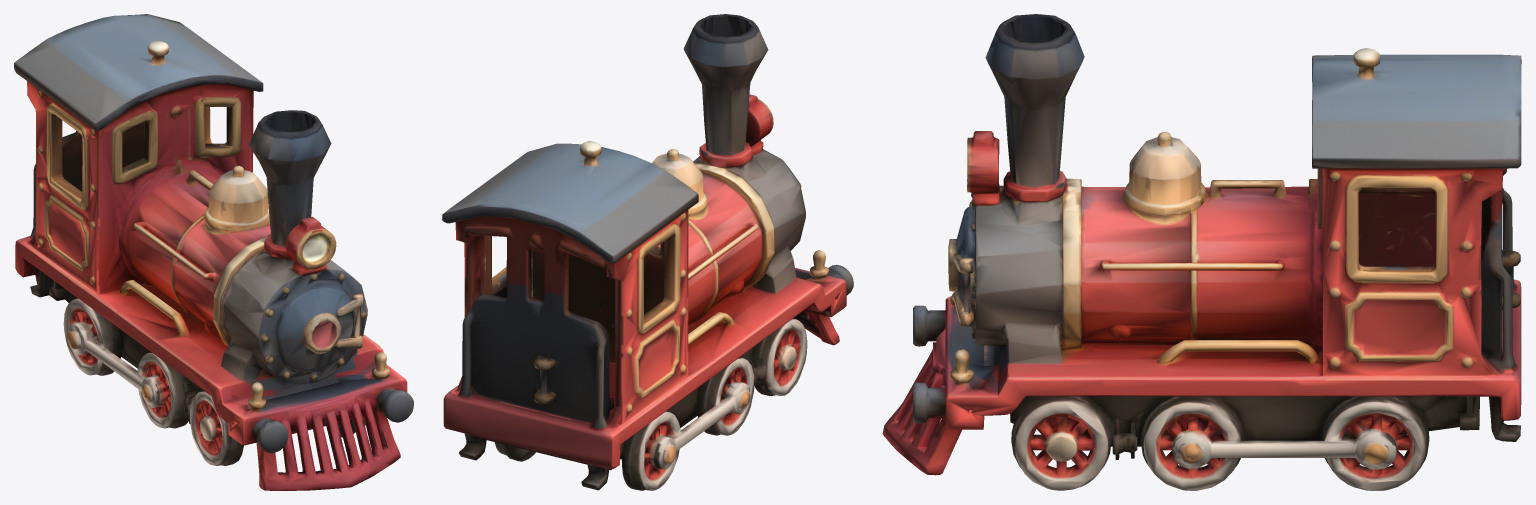
Rendered from train-loco.glb.
3 renders of one model, left to right at view 1: azimuth 30°, elevation 25°; view 2: azimuth 150°, elevation 25°; view 3: azimuth 270°, elevation 25°, orthographic. The views are drawn at different scales.
Parts seen in each view (by area): view 1: node_0; view 2: node_0; view 3: node_0.
Boxes of the visible parts, x1,y1,x2,y2 form: node_0: (14, 14, 413, 490); node_0: (442, 14, 853, 490); node_0: (882, 14, 1521, 490).
Bounding box in the file's own units: 0.3785 × 0.7247 × 0.9958.
Materials: 1 (1 with a texture image).
